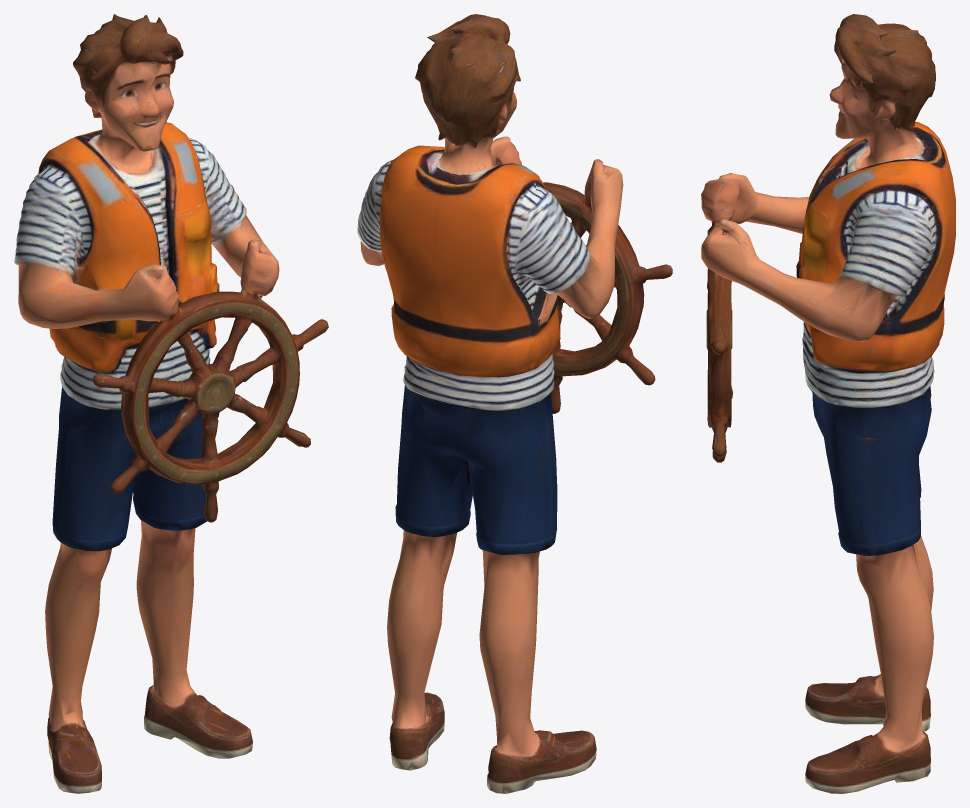
The model's file is rescue-captain.glb.
3 renders of one model, left to right at view 1: azimuth 30°, elevation 25°; view 2: azimuth 150°, elevation 25°; view 3: azimuth 270°, elevation 25°, orthographic.
Visible parts, largest first — view 1: Mesh_0; view 2: Mesh_0; view 3: Mesh_0.
Part boxes in pixels (<box>): Mesh_0: <box>14,14,328,793</box>; Mesh_0: <box>357,14,672,793</box>; Mesh_0: <box>701,14,955,793</box>.
Size of the model in its own units: 0.6409 by 1.9 by 0.5973.
1 material, 1 textured.
